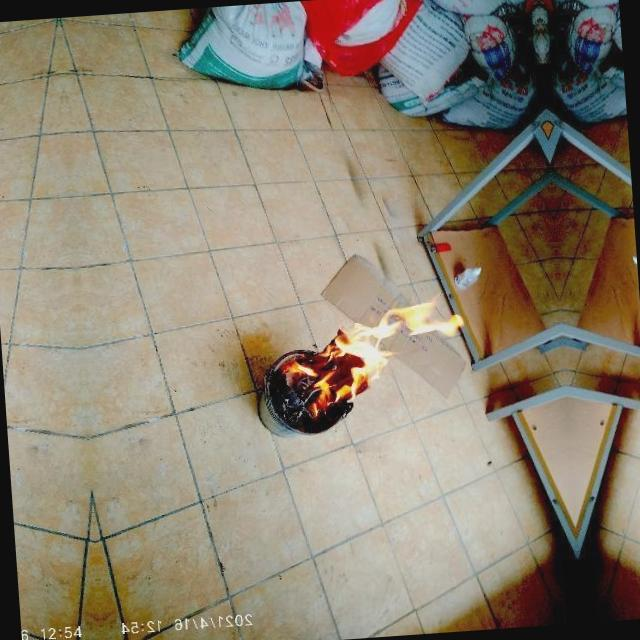fire: (266, 294, 454, 431)
